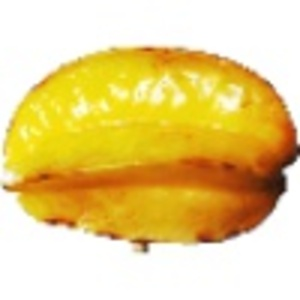carambola: (1, 43, 300, 257)
